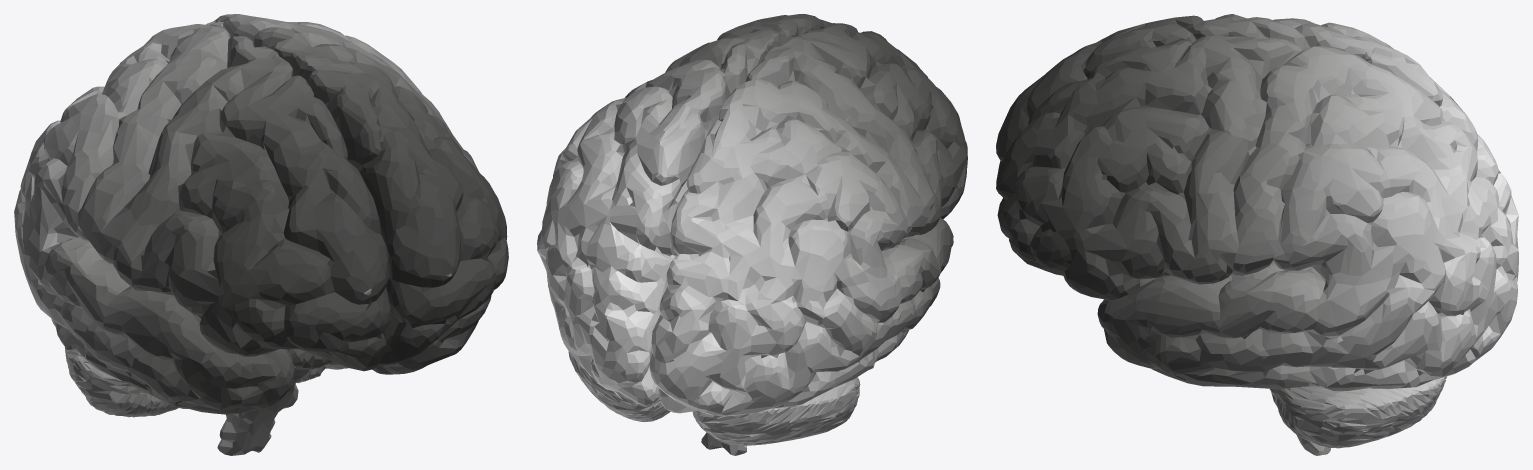
Rendered from brain.FBX.
The picture shows the model from 3 angles, left to right: view 1: azimuth 30°, elevation 25°; view 2: azimuth 150°, elevation 25°; view 3: azimuth 270°, elevation 25°; orthographic projection. The views are drawn at different scales.
Parts seen in each view (by area): view 1: Brain; view 2: Brain; view 3: Brain.
Boxes of the visible parts, bbox=[...] form: Brain: bbox=[14, 14, 508, 455]; Brain: bbox=[537, 14, 967, 455]; Brain: bbox=[996, 14, 1518, 455].
Size of the model in its own units: 265 by 281 by 320.
Materials: 1 (1 with a texture image).
